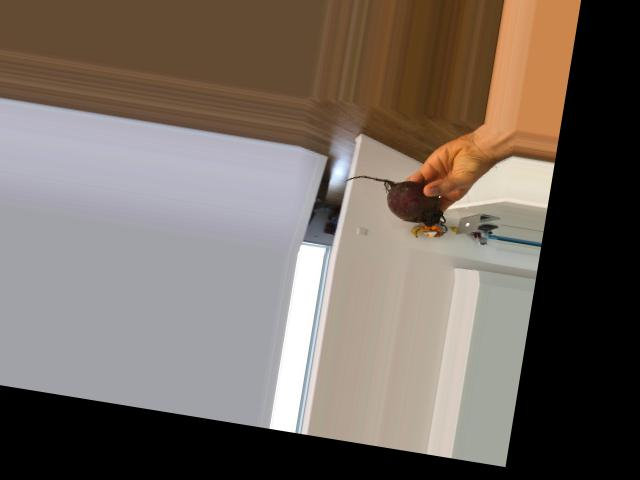beet: (339, 170, 450, 228)
